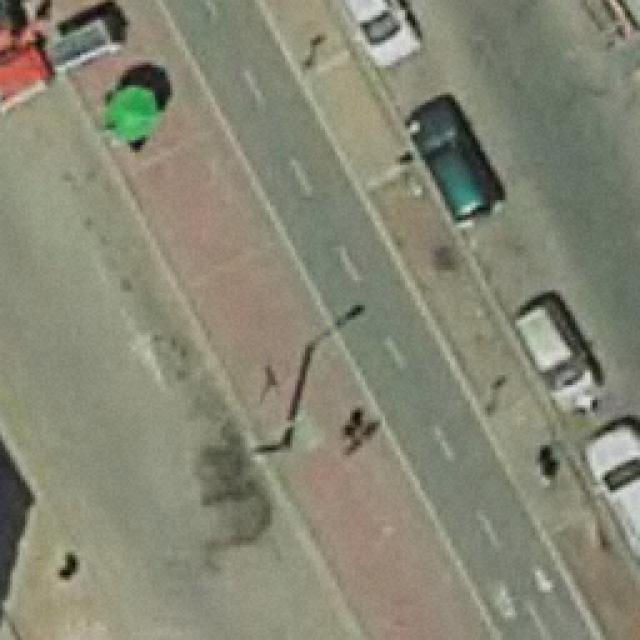vendedor_ambulante: (98, 62, 174, 150)
